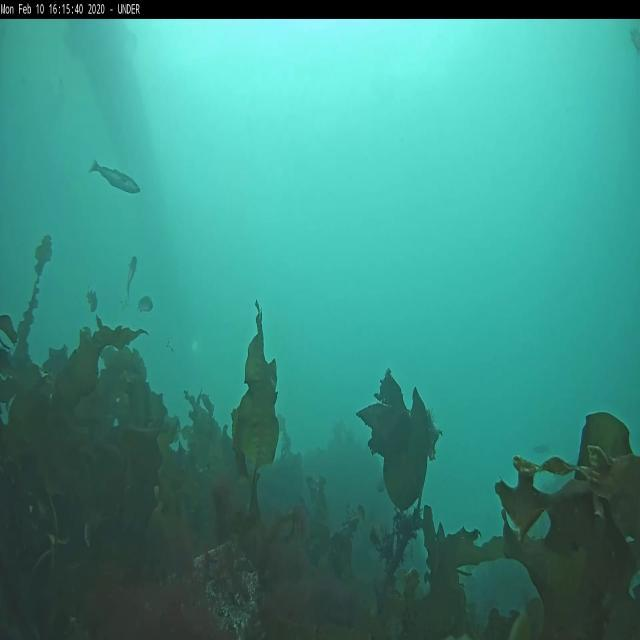fish: (92, 161, 139, 195), (126, 254, 138, 298), (86, 288, 98, 312), (136, 296, 152, 313)
